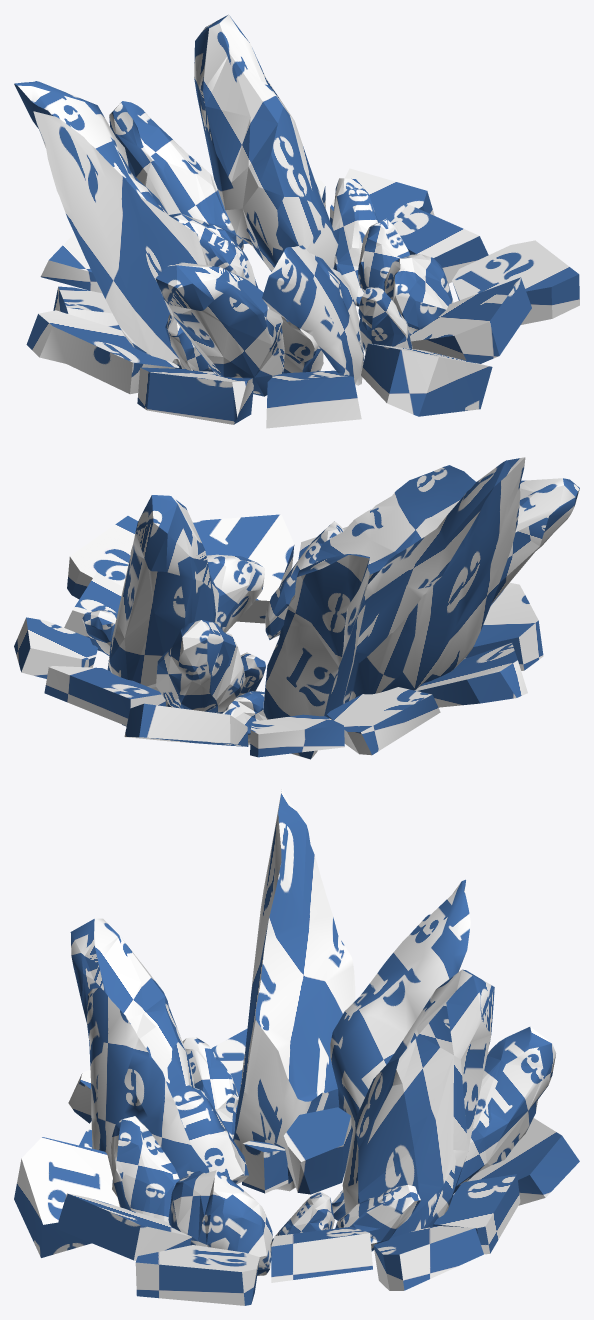
File: Ne_Spl_GroundRock_03.fbx
3 views of the same model, one above another, from view 1: azimuth 30°, elevation 25°; view 2: azimuth 150°, elevation 25°; view 3: azimuth 270°, elevation 25° (orthographic). The views are drawn at different scales.
Parts seen in each view (by area): view 1: SM_d_e_P0002_V00_C00_SplBkt_GroundRock_05; view 2: SM_d_e_P0002_V00_C00_SplBkt_GroundRock_05; view 3: SM_d_e_P0002_V00_C00_SplBkt_GroundRock_05.
Part boxes in pixels (box(x1,y1,x2,y2)): SM_d_e_P0002_V00_C00_SplBkt_GroundRock_05: box(14, 14, 579, 428); SM_d_e_P0002_V00_C00_SplBkt_GroundRock_05: box(14, 457, 579, 759); SM_d_e_P0002_V00_C00_SplBkt_GroundRock_05: box(14, 788, 579, 1305).
Size of the model in its own units: 114 by 71.25 by 112.
